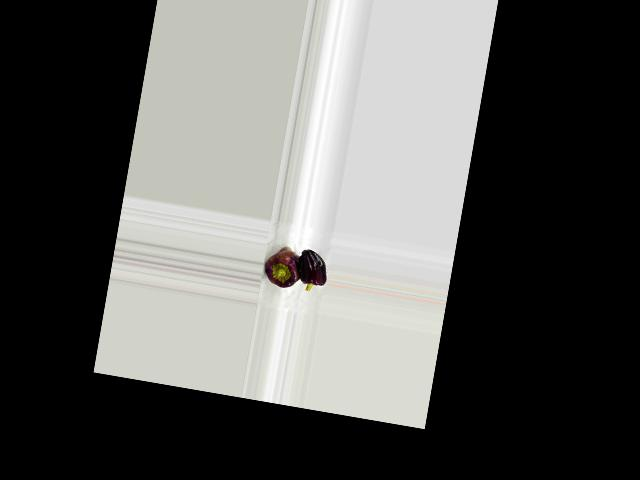bell_pepper: (259, 236, 306, 298)
